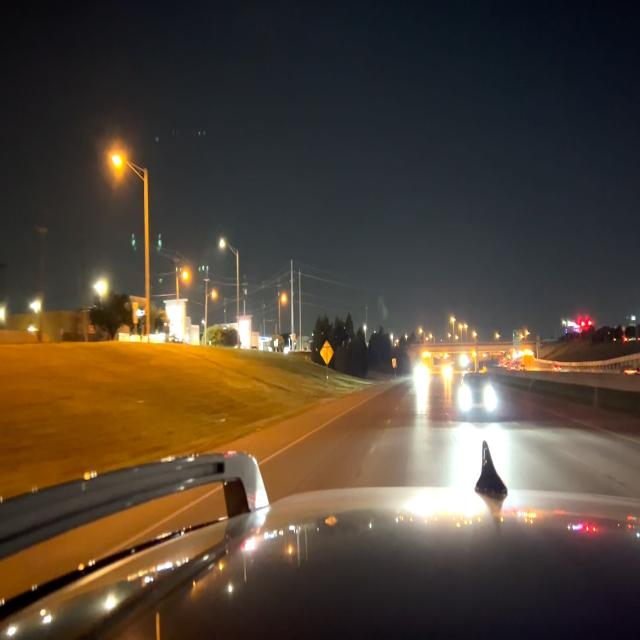back-of-sign: (320, 340, 334, 365)
